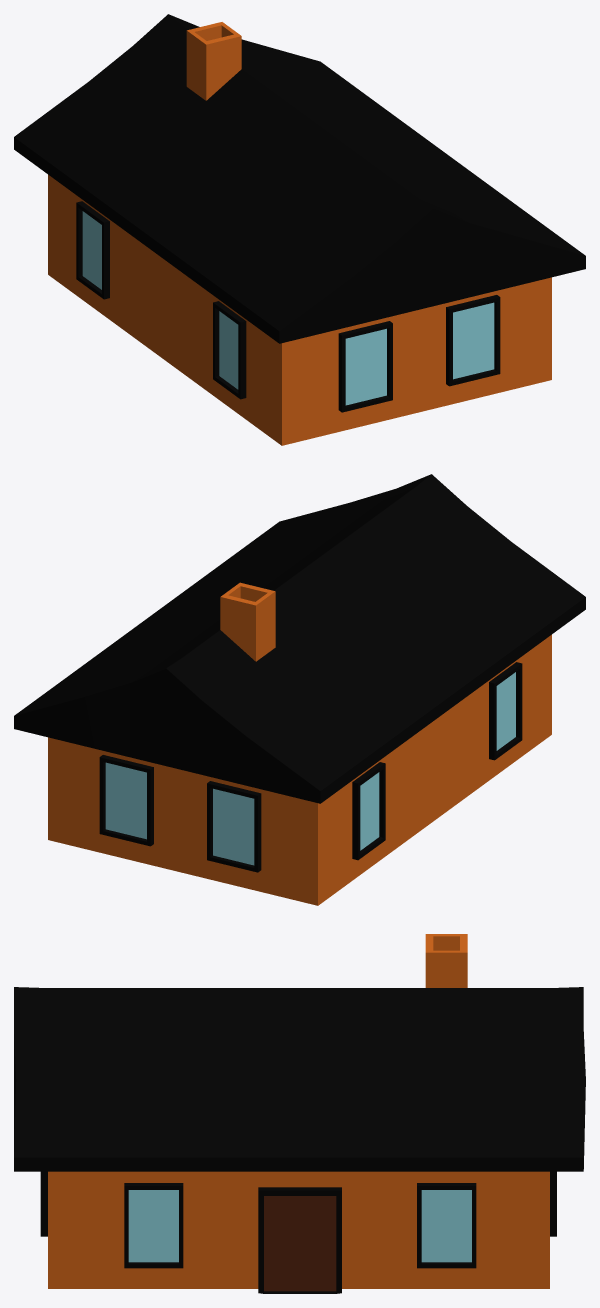
The model's file is Houses07.fbx.
The picture shows the model from 3 angles, top to bottom: view 1: azimuth 30°, elevation 25°; view 2: azimuth 150°, elevation 25°; view 3: azimuth 270°, elevation 25°; orthographic projection. The views are drawn at different scales.
Visible parts, largest first — view 1: Plane.002; view 2: Plane.002; view 3: Plane.002.
Part boxes in pixels (<box>): Plane.002: <box>14,14,585,445</box>; Plane.002: <box>14,474,585,905</box>; Plane.002: <box>14,934,585,1293</box>.
Bounding box in the file's own units: 400 × 311 × 602.
